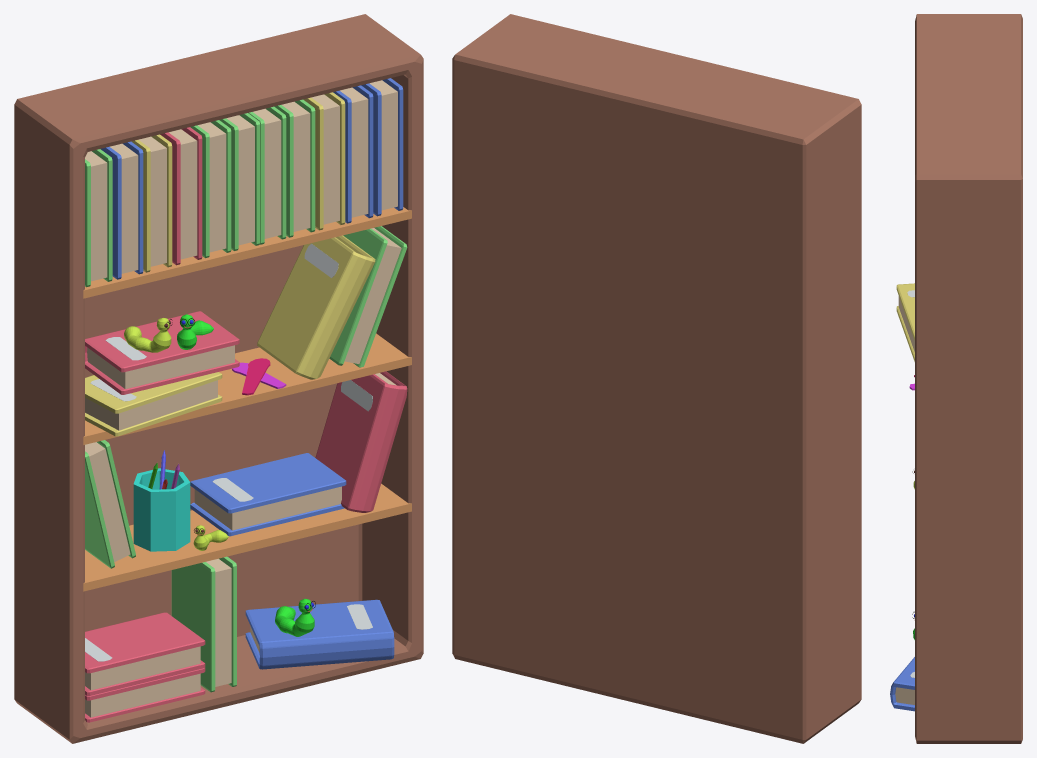
File: bookcase.glb
The picture shows the model from 3 angles, left to right: view 1: azimuth 30°, elevation 25°; view 2: azimuth 150°, elevation 25°; view 3: azimuth 270°, elevation 25°; orthographic projection. The views are drawn at different scales.
Visible parts, largest first — view 1: Cube, Cube.003, Cube.016, Cube.018, Cube.017, Cube.022, Cube.014, Cube.021, Cube.023, Cube.013, Cube.015, Cube.019 (+16 smaller); view 2: Cube; view 3: Cube, Cube.013, Cube.022.
Part boxes in pixels (x1,y1,x2,y2): Cube: (14, 14, 423, 743); Cube.003: (83, 207, 411, 591); Cube.016: (257, 235, 375, 379); Cube.018: (190, 453, 346, 536); Cube.017: (315, 371, 407, 512); Cube.022: (245, 599, 394, 669); Cube.014: (85, 311, 239, 394); Cube.021: (85, 612, 205, 695); Cube.023: (171, 556, 236, 692); Cube.013: (85, 372, 222, 436); Cube.015: (329, 226, 407, 367); Cube.019: (85, 440, 135, 568); Cube: (452, 14, 861, 743); Cube: (915, 14, 1022, 743); Cube.013: (896, 283, 914, 361); Cube.022: (890, 657, 914, 711).
Bounding box in the file's own units: 5.99 × 9.77 × 2.07.
